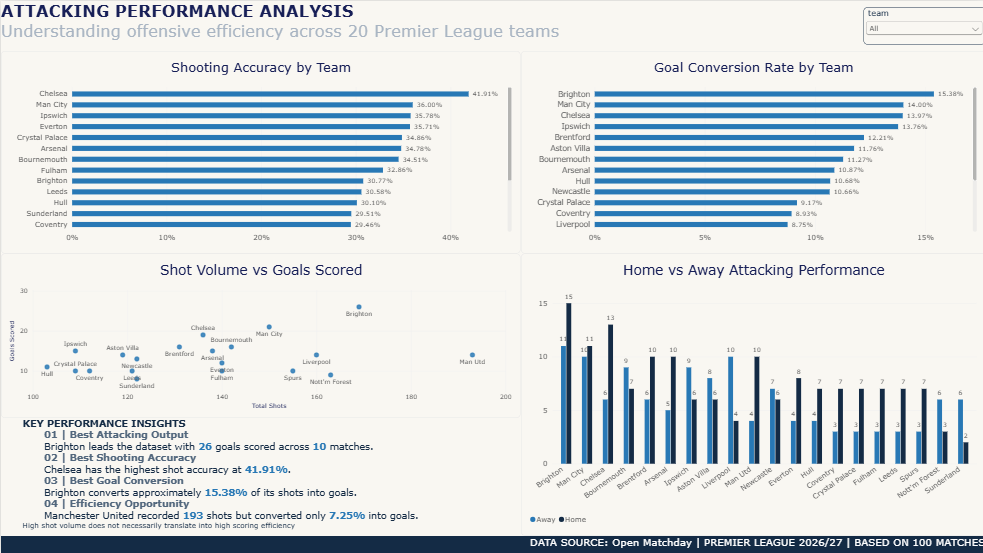

This screenshot's page, from the dashboard's own definition file:
{"tool":"powerbi","page":{"name":"Attacking Performance","canvas":[1920,1080],"ordinal":1},"visuals":[{"type":"clusteredBarChart","title":"Goal Conversion Rate by Team","fields":{"Category":["teamMatches.team"],"Y":["matches.Goal Conversion"]},"box":[1013.6,97.7,906.8,395.5],"z":0},{"type":"clusteredBarChart","title":"Shooting Accuracy by Team","fields":{"Category":["teamMatches.team"],"Y":["matches.Shot Accuracy"]},"box":[0,97.7,1013.6,395.5],"z":1000},{"type":"scatterChart","title":"Shot Volume vs Goals Scored","fields":{"Category":["teamMatches.team"],"X":["Sum(teamMatches.shots)"],"Y":["Sum(teamMatches.goals_for)"]},"box":[0,493.2,1013.6,320.5],"z":2000},{"type":"clusteredColumnChart","title":"Home vs Away Attacking Performance","fields":{"Category":["teamMatches.team"],"Series":["teamMatches.venue"],"Y":["Sum(teamMatches.goals_for)"]},"box":[1013.6,493.2,906.8,550],"z":3000},{"type":"textbox","box":[0,811.4,1013.6,231.8],"z":4000},{"type":"textbox","box":[0,0,1920,97.5],"z":5001},{"type":"slicer","fields":{"Values":["teamMatches.team"]},"box":[1682.5,12.5,237.5,72.5],"z":5501},{"type":"textbox","title":"DATA SOURCE: Open Matchday | PREMIER LEAGUE 2026/27 | BASED ON 100 MATCHES","box":[0,1043.2,1920.5,36.4],"z":5502}]}

Visuals, with their boxes in screenshot pixels (x1, y1, x2, y2), scaled from the page's 1920x1080 canvas onto the 983x553 screenshot:
"Goal Conversion Rate by Team" clusteredBarChart: 519,50,982,253
"Shooting Accuracy by Team" clusteredBarChart: 0,50,519,253
"Shot Volume vs Goals Scored" scatterChart: 0,253,519,417
"Home vs Away Attacking Performance" clusteredColumnChart: 519,253,982,534
textbox: 0,415,519,534
textbox: 0,0,982,50
slicer - teamMatches.team: 861,6,982,44
"DATA SOURCE: Open Matchday | PREMIER LEAGUE 2026/27 | BASED ON 100 MATCHES" textbox: 0,534,982,552
